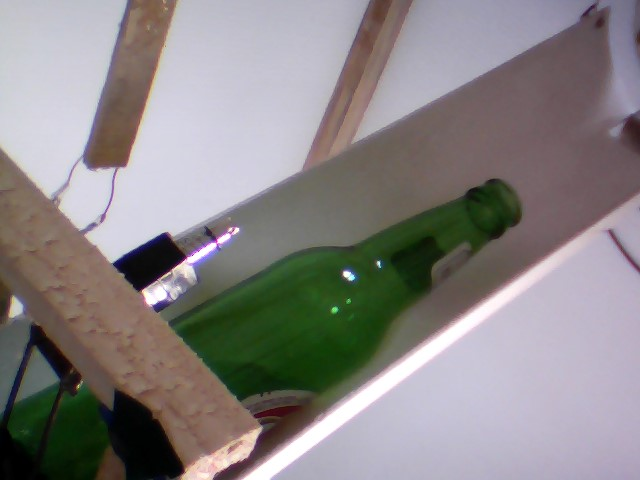vidrio: (178, 169, 545, 417)
